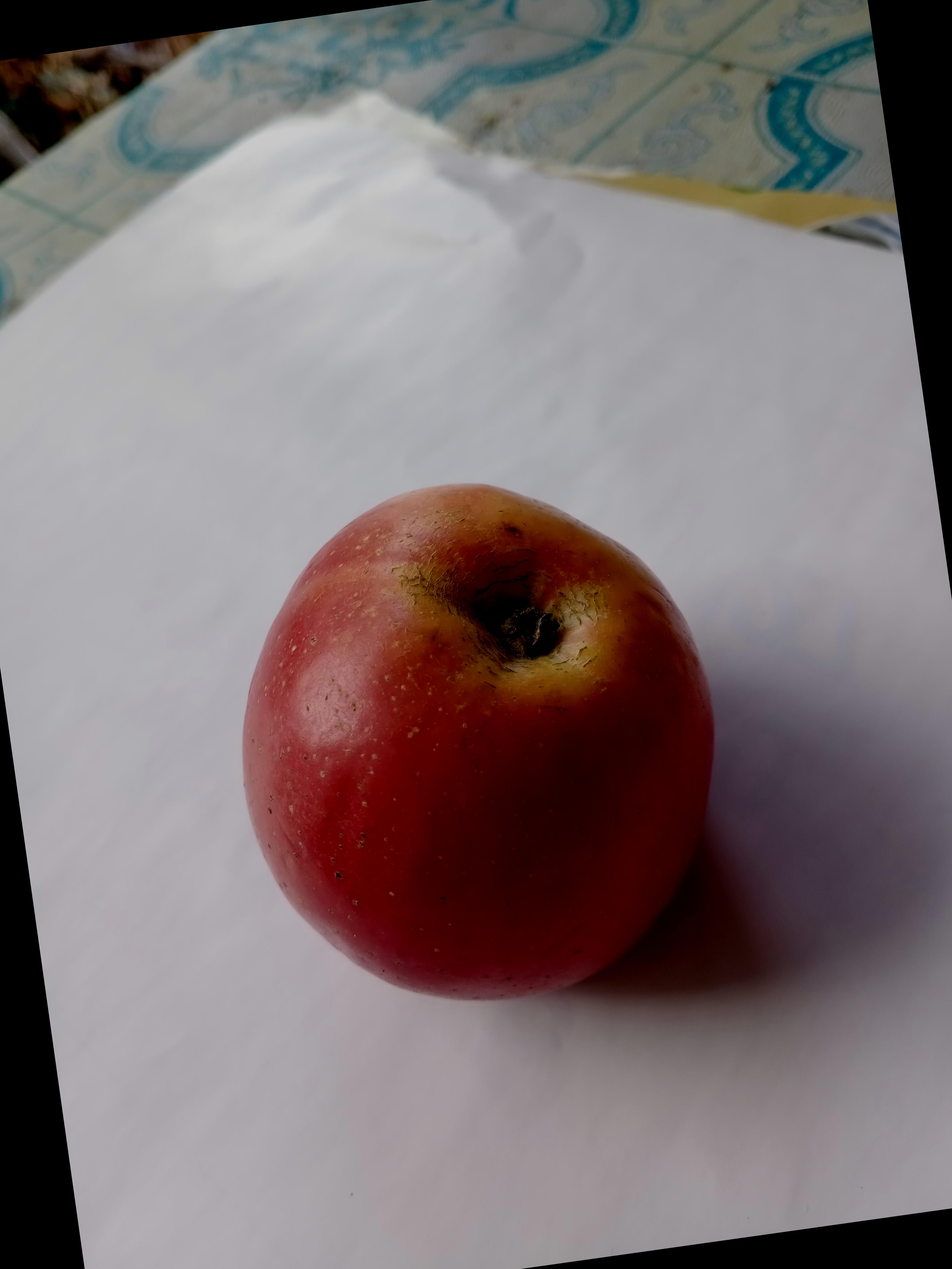Apple Ripe: (59, 524, 642, 1154)
